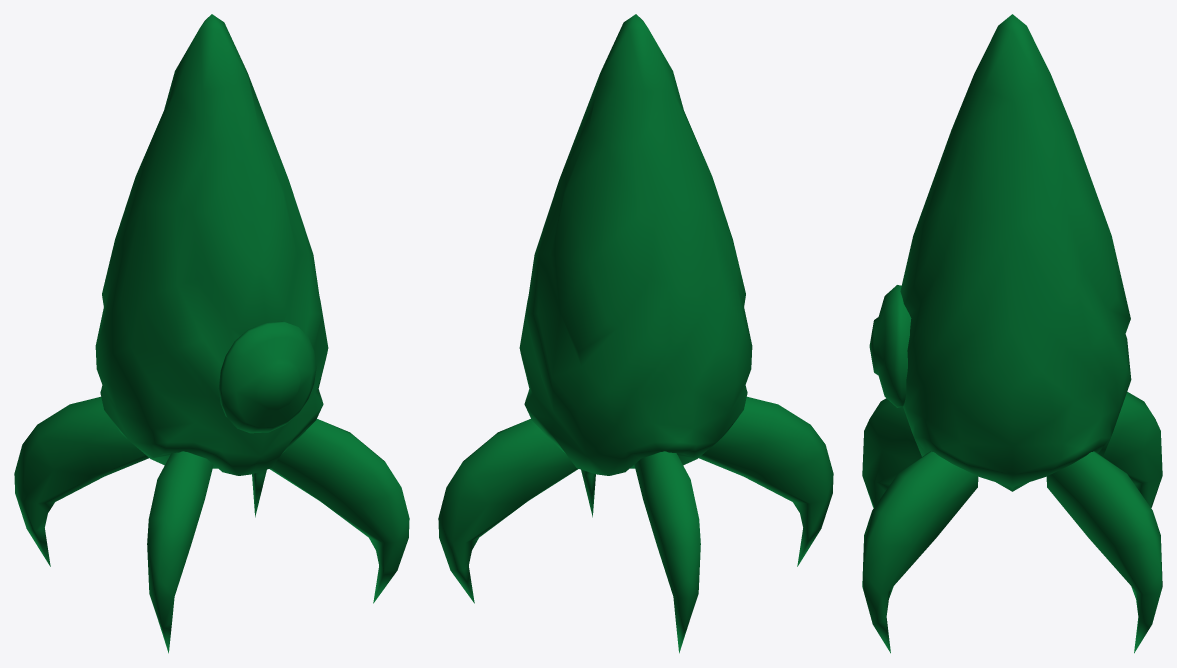
File: drone-grunt.fbx
3 views of the same model, side by side, from view 1: azimuth 30°, elevation 25°; view 2: azimuth 150°, elevation 25°; view 3: azimuth 270°, elevation 25° (orthographic). The views are drawn at different scales.
Parts seen in each view (by area): view 1: drone_grunt; view 2: drone_grunt; view 3: drone_grunt.
Part boxes in pixels (left/top/right/bottom): drone_grunt: left=14, top=14, right=409, bottom=653; drone_grunt: left=438, top=14, right=833, bottom=653; drone_grunt: left=862, top=14, right=1162, bottom=653.
Size of the model in its own units: 0.2027 by 0.4383 by 0.2027.
